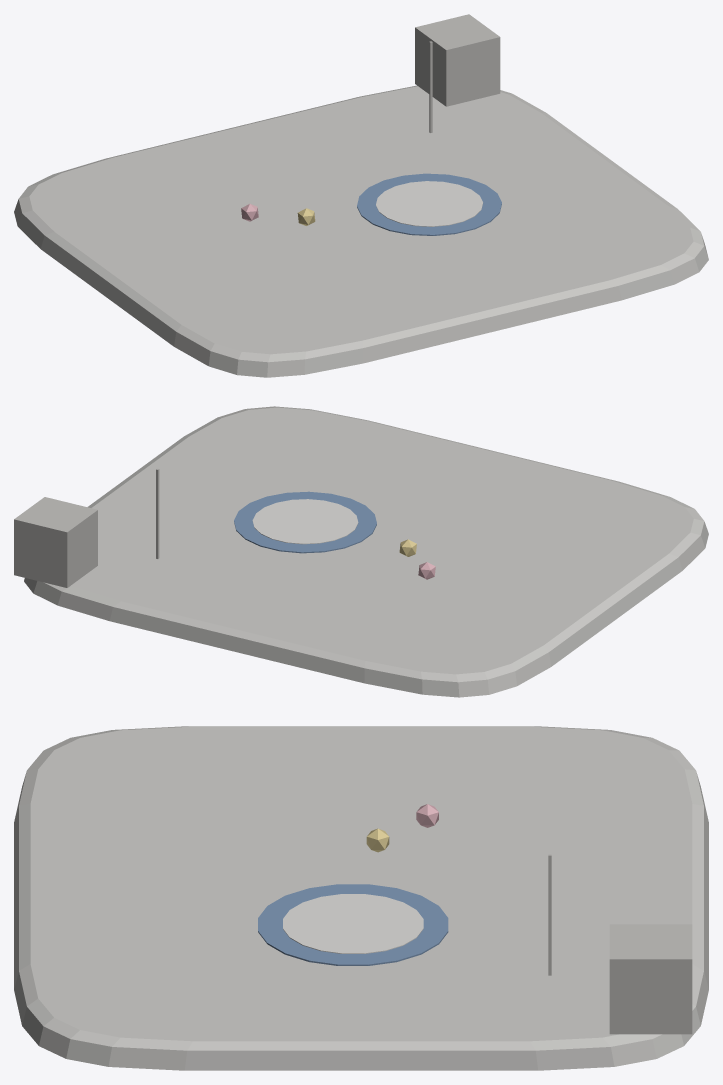
Rendered from set.glb.
3 renders of one model, top to bottom at view 1: azimuth 30°, elevation 25°; view 2: azimuth 150°, elevation 25°; view 3: azimuth 270°, elevation 25°, orthographic. The views are drawn at different scales.
Visible parts, largest first — view 1: spawn; view 2: spawn; view 3: spawn.
Part boxes in pixels (box(x1,y1,x2,y2)): spawn: box(14, 14, 708, 377); spawn: box(14, 406, 708, 697); spawn: box(14, 726, 708, 1070).
Size of the model in its own units: 9.4 by 1.9 by 8.4.
